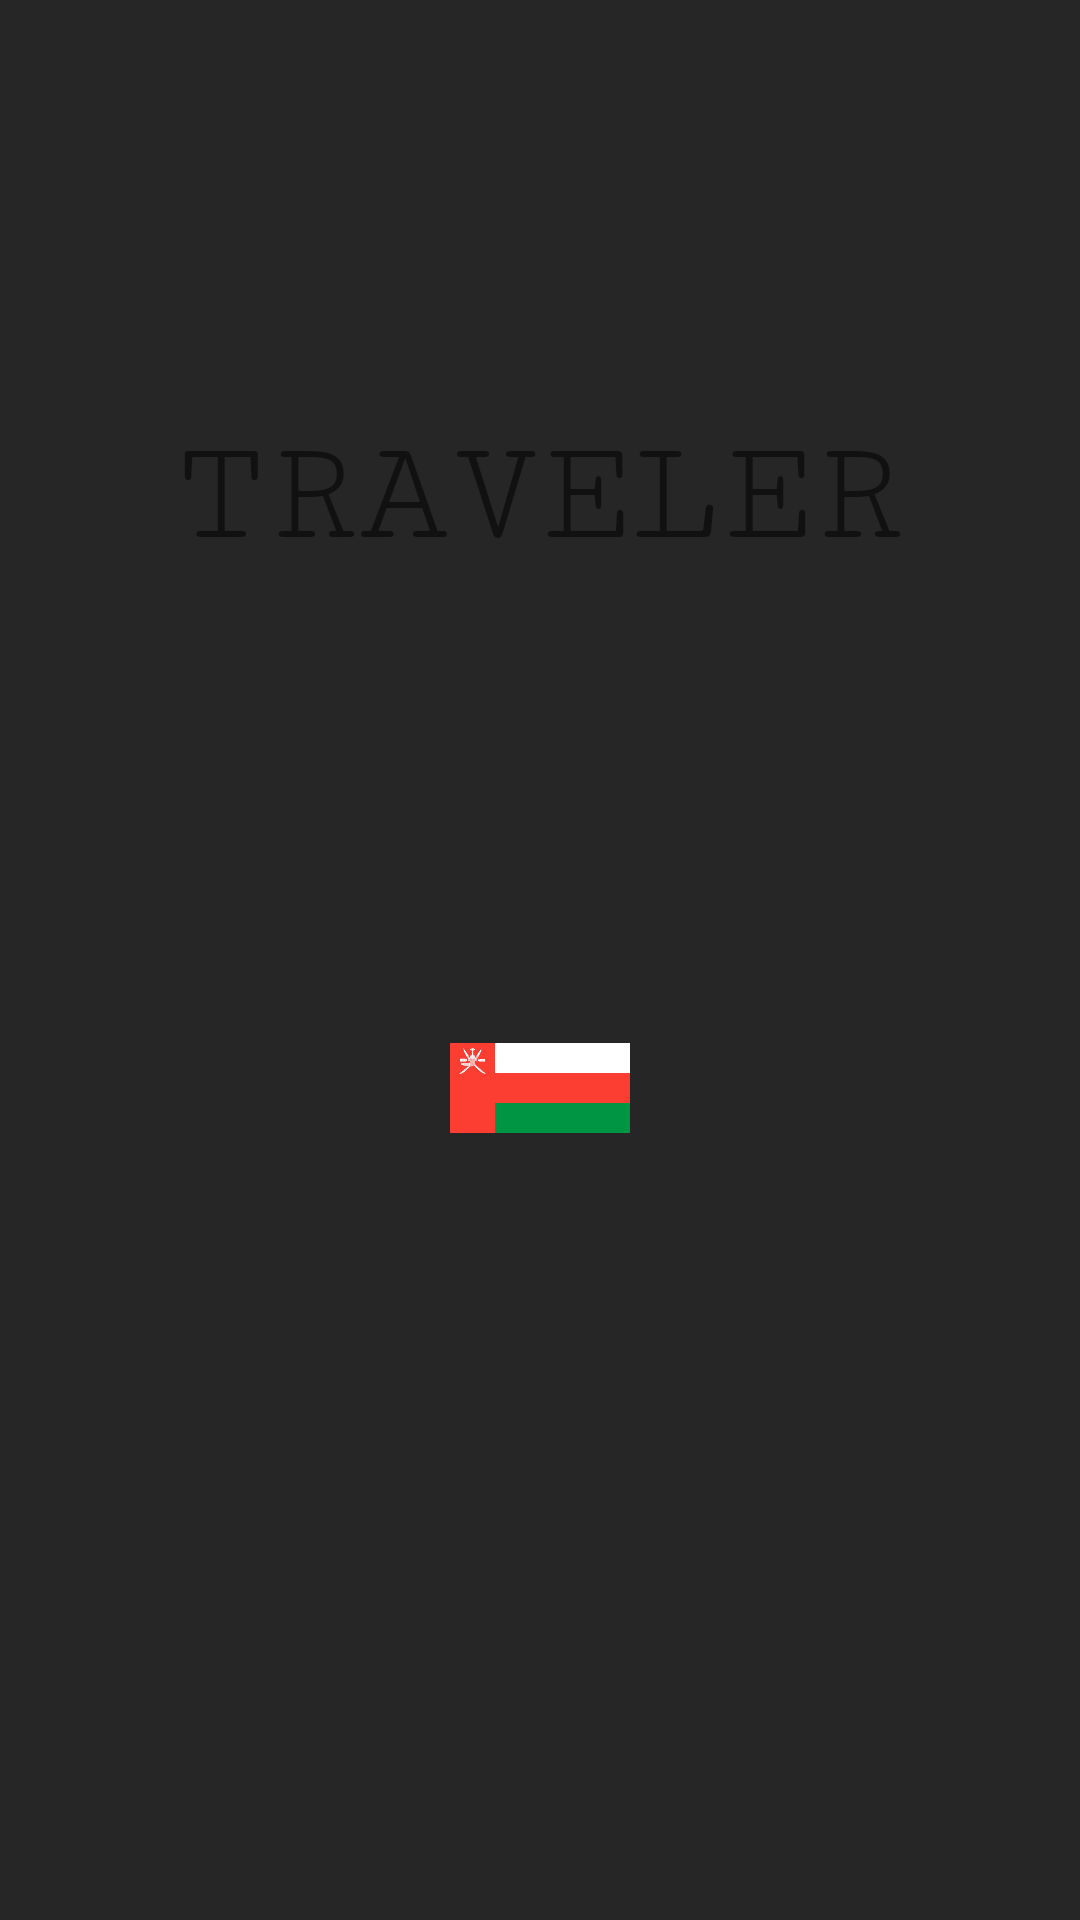

Where to tap for icons on this 1080 x 1920 app screen, as (x=x, y=y):
omanflagg: (x=540, y=1088)
